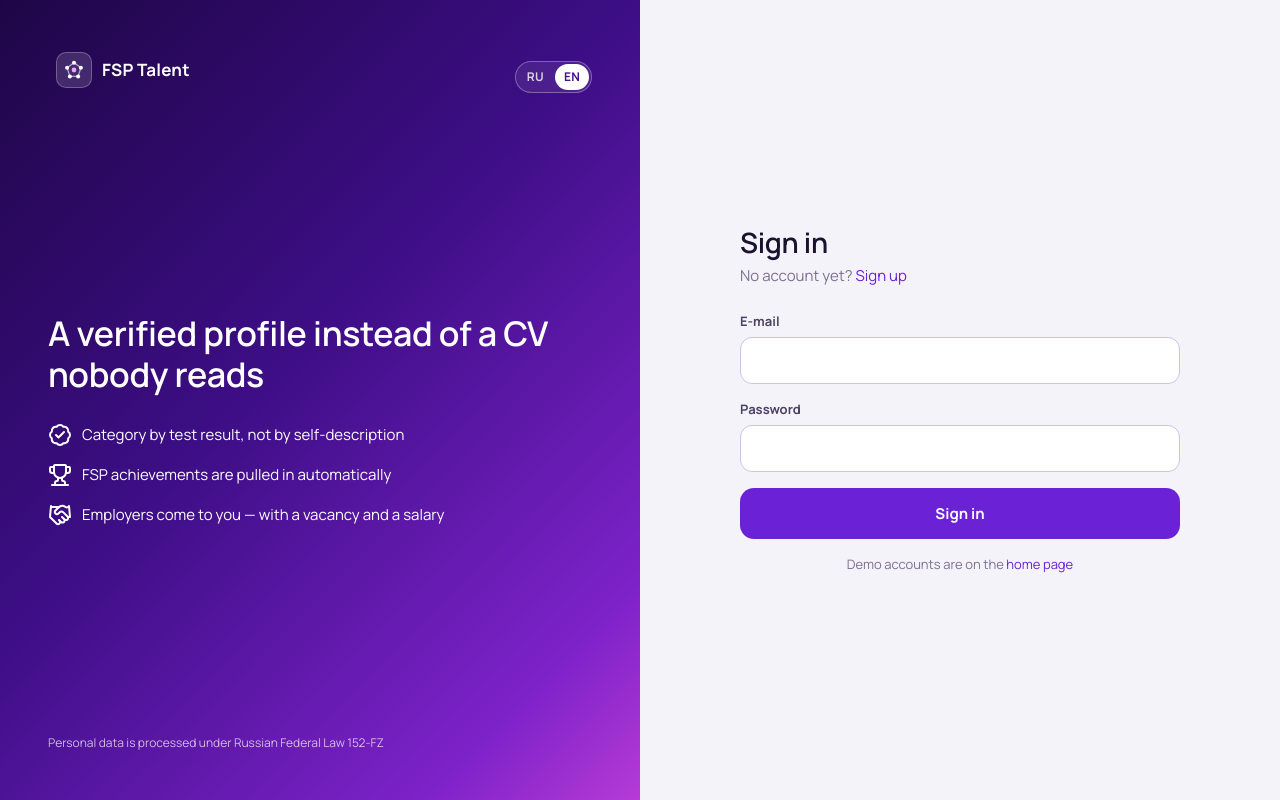
Test: auth forms › show the server error message, requested in the chosen language
Step 1. Type "x@example.com" into the field labelled "E-mail" → (960, 361), box [740,337,1180,384]
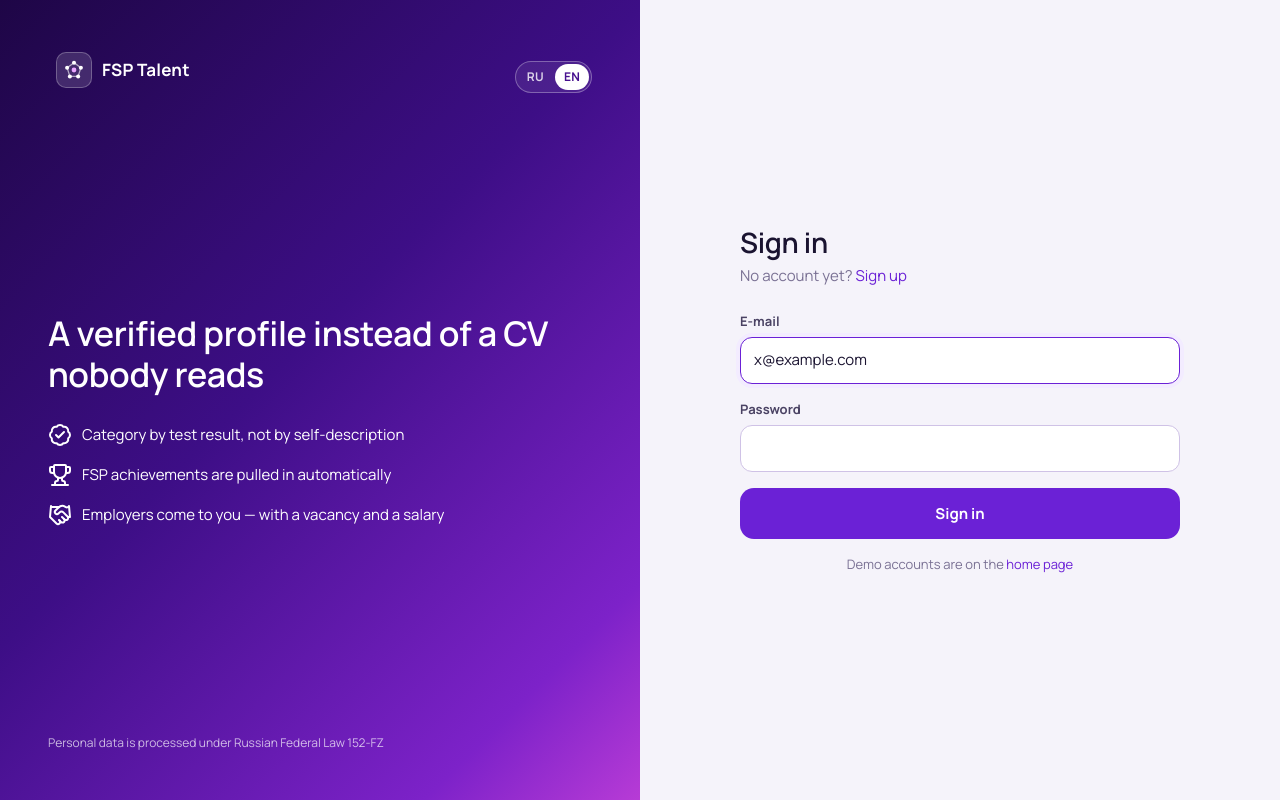
Step 2. Type "secret123" into the password field labelled "Password" → (960, 449), box [740,425,1180,472]
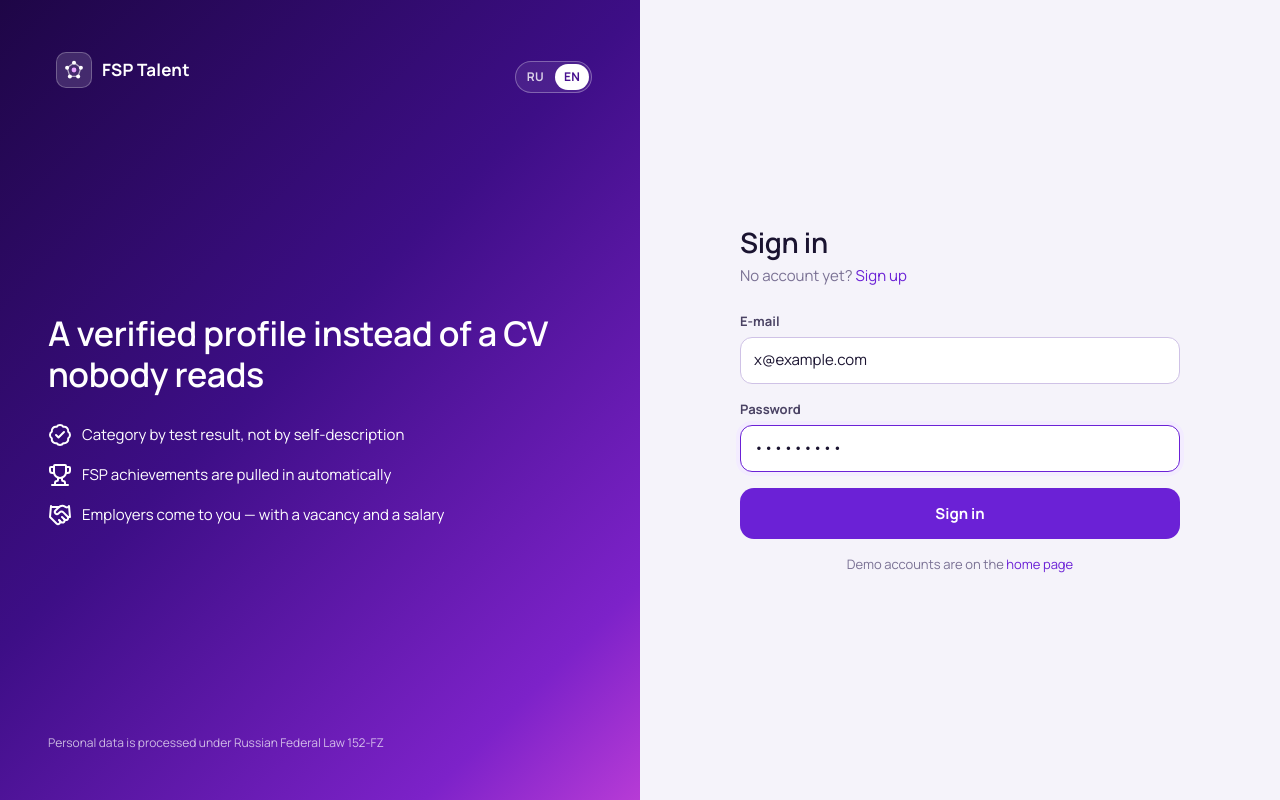
Step 3. Click the button "Sign in" → (960, 513), box [740,488,1180,539]
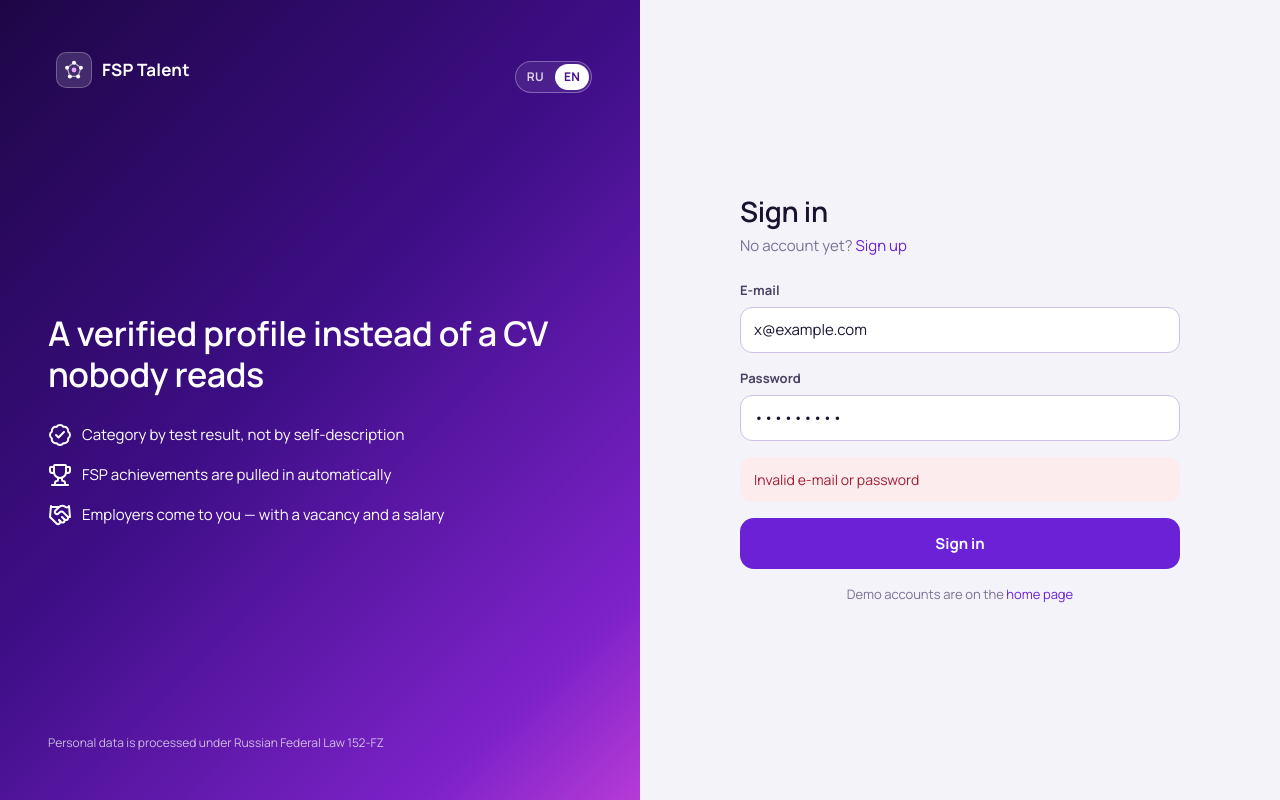
Expected: the text "Invalid e-mail or password" is shown, [740,457,1180,502]
